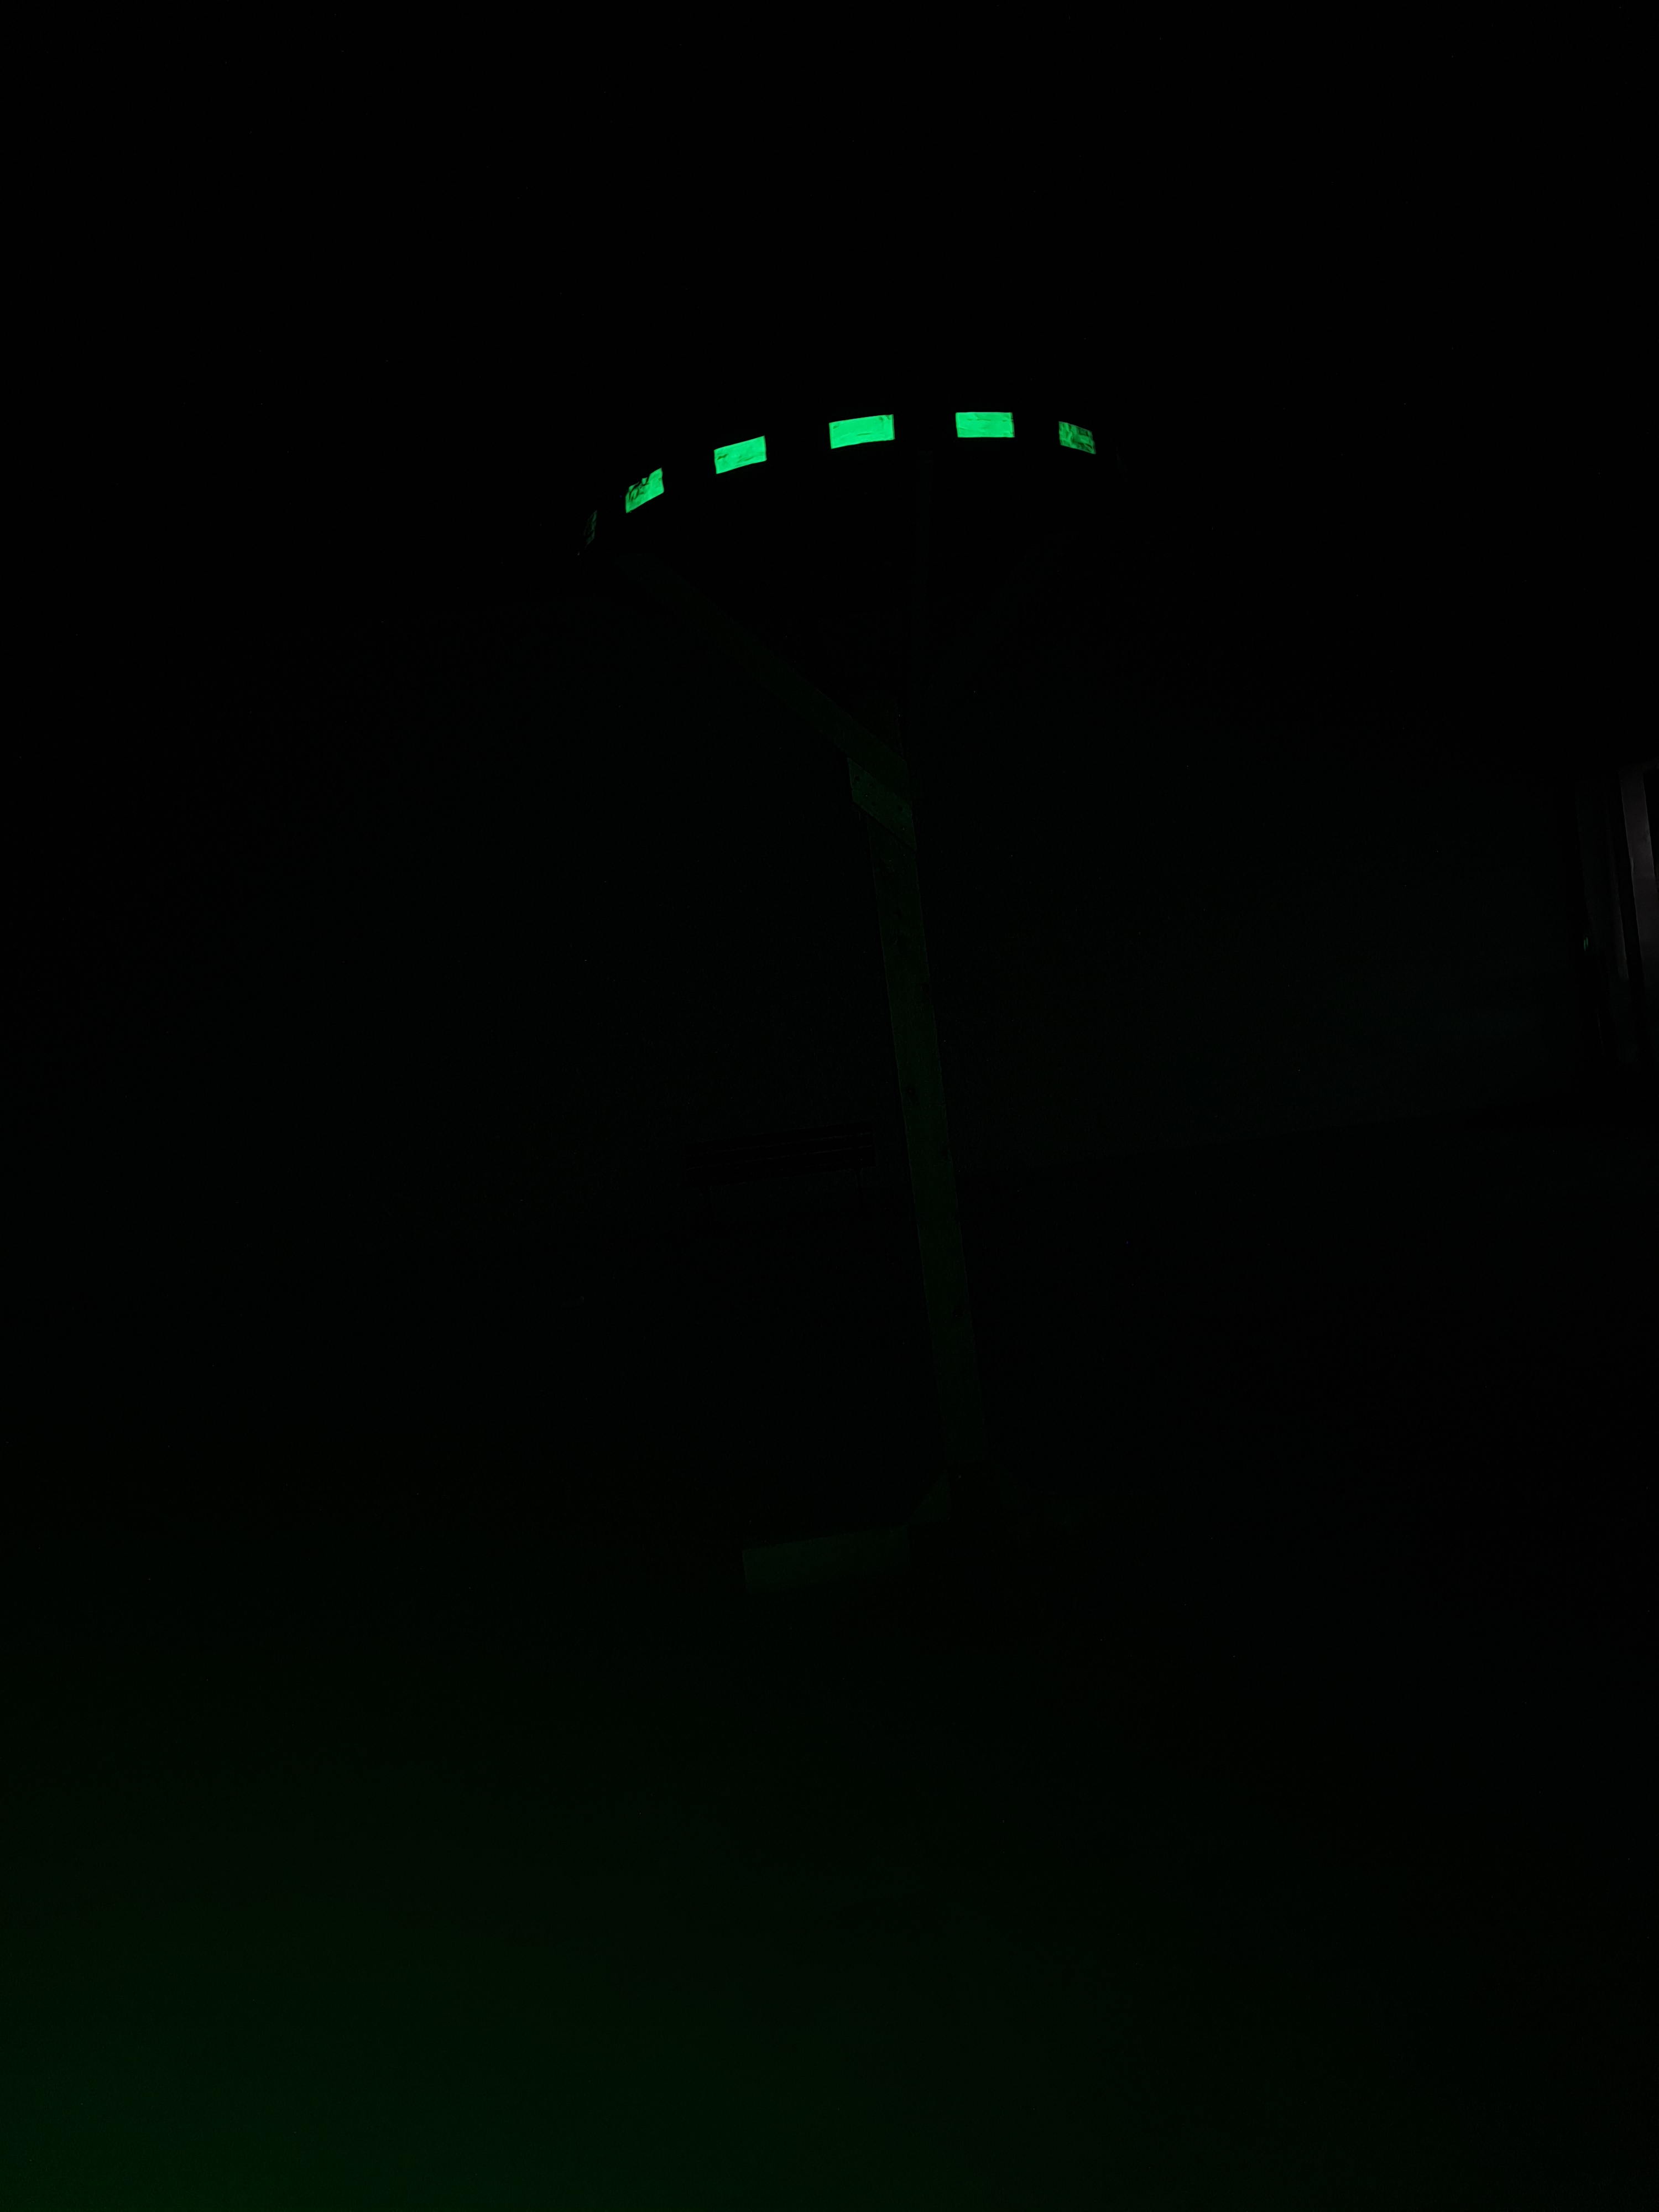hoop: (626, 409, 1100, 516)
